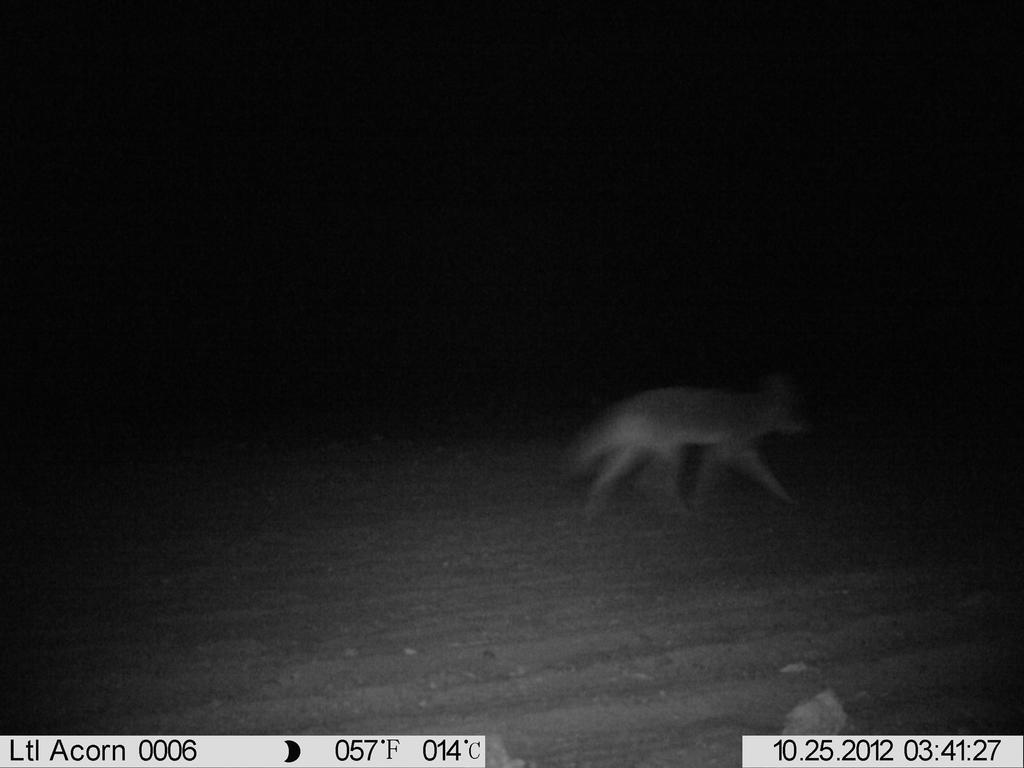coyote: (510, 346, 834, 560)
